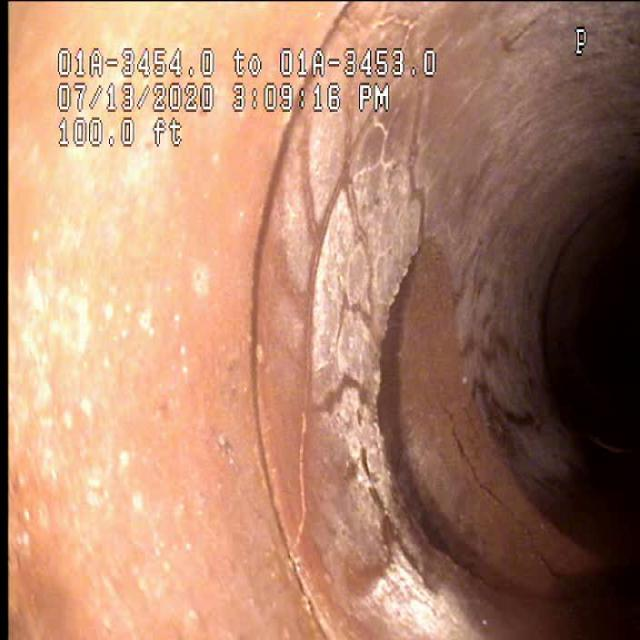Crack: (279, 124, 386, 536)
